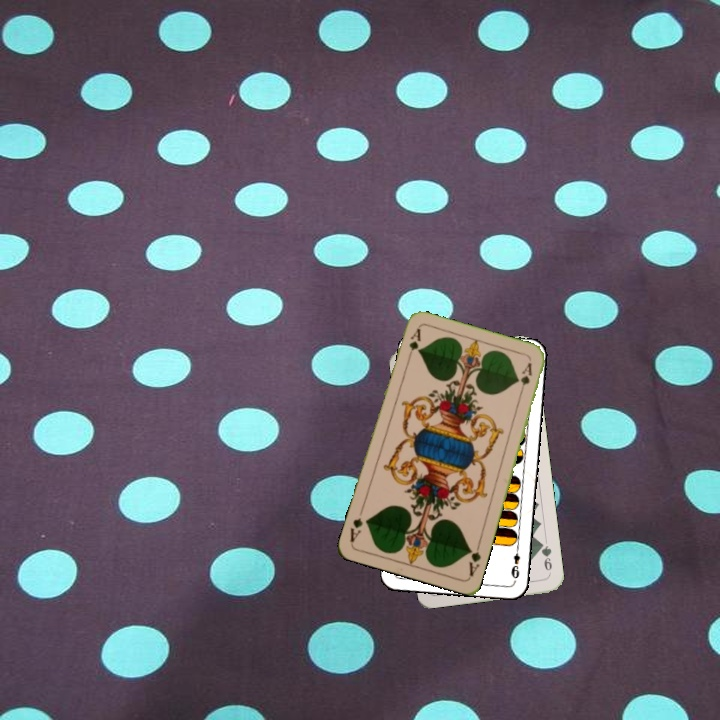E9: (507, 542, 523, 583)
G9: (536, 538, 554, 578)
GA: (403, 324, 423, 364), (464, 539, 483, 579)
